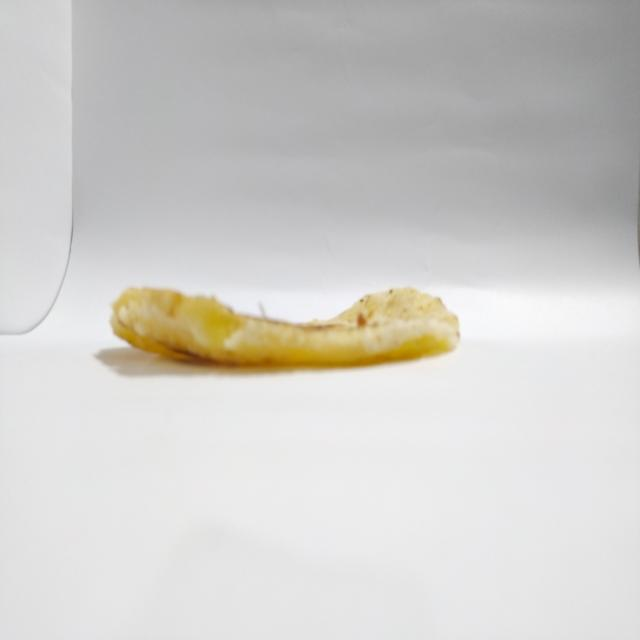Food: (99, 247, 474, 380)
